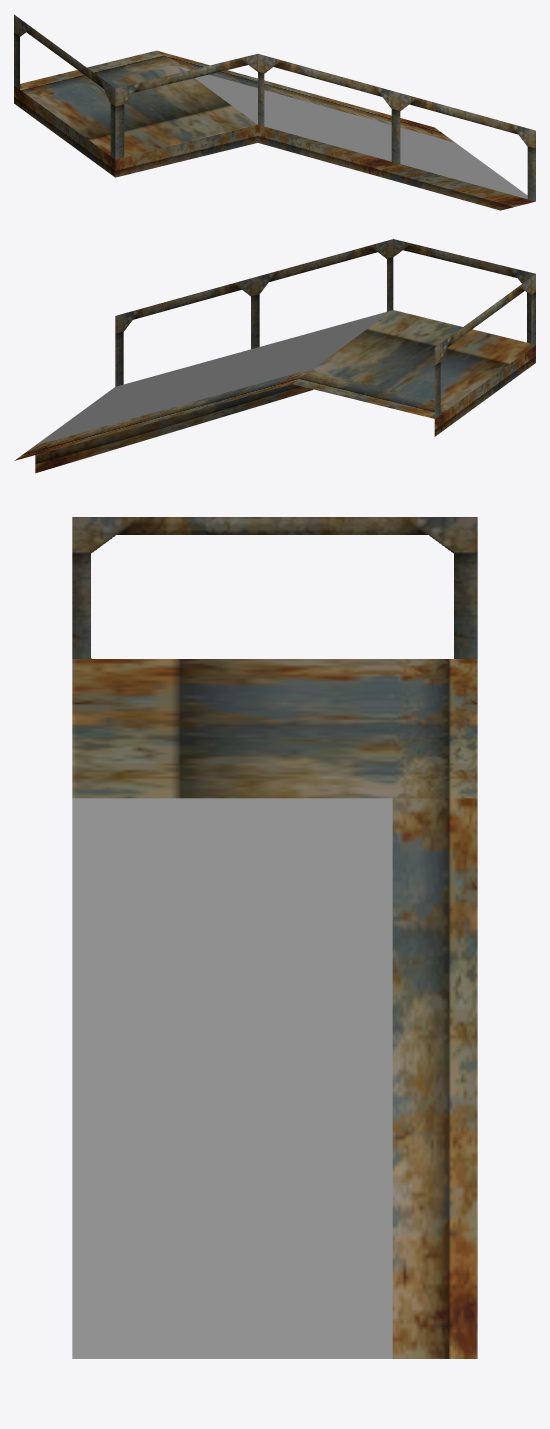
Rendered from M11A_Roof_Feature02.glb.
The picture shows the model from 3 angles, top to bottom: view 1: azimuth 30°, elevation 25°; view 2: azimuth 150°, elevation 25°; view 3: azimuth 270°, elevation 25°; orthographic projection. The views are drawn at different scales.
Parts seen in each view (by area): view 1: M11A_ROOF_FEATURE02; view 2: M11A_ROOF_FEATURE02; view 3: M11A_ROOF_FEATURE02.
Boxes of the visible parts, x1,y1,x2,y2 form: M11A_ROOF_FEATURE02: [14, 14, 535, 210]; M11A_ROOF_FEATURE02: [14, 239, 535, 473]; M11A_ROOF_FEATURE02: [72, 517, 477, 1358].
Bounding box in the file's own units: 6.07 × 3.36 × 2.53.
2 materials, 1 textured.
